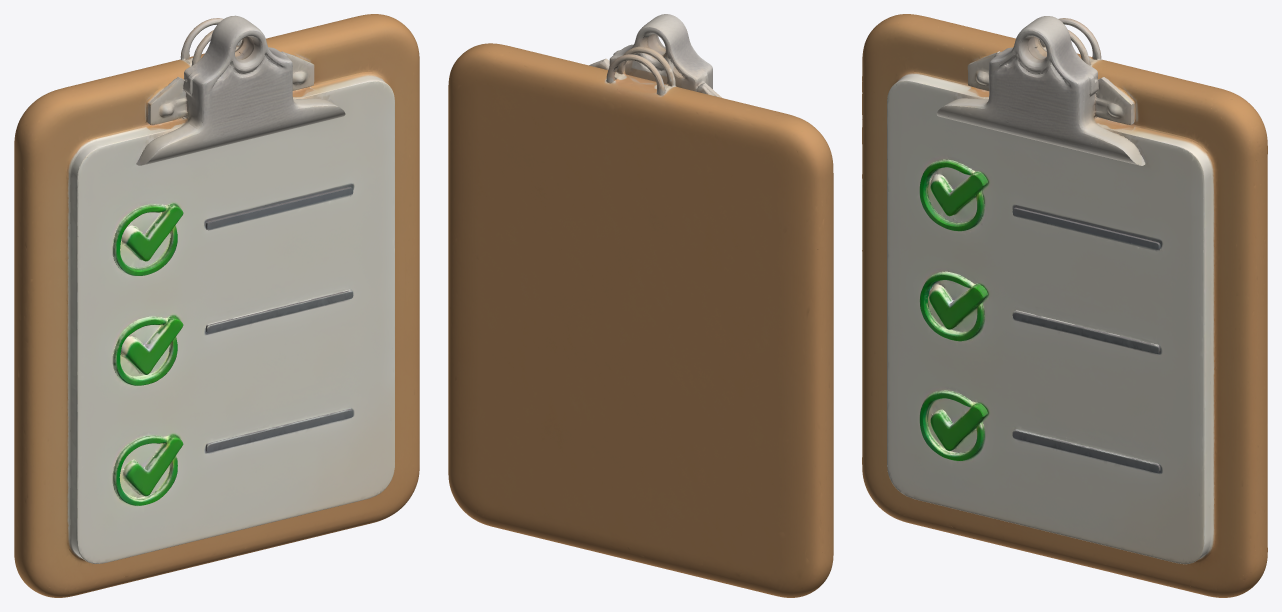
The model's file is list.glb.
3 renders of one model, left to right at view 1: azimuth 30°, elevation 25°; view 2: azimuth 150°, elevation 25°; view 3: azimuth 330°, elevation 25°, orthographic. The views are drawn at different scales.
Visible parts, largest first — view 1: model; view 2: model; view 3: model.
Part boxes in pixels (x1,y1,x2,y2): model: (14,14,419,597); model: (448,14,833,597); model: (862,14,1267,597).
Size of the model in its own units: 1.43 by 1.9 by 0.2744.
1 material, 1 textured.
